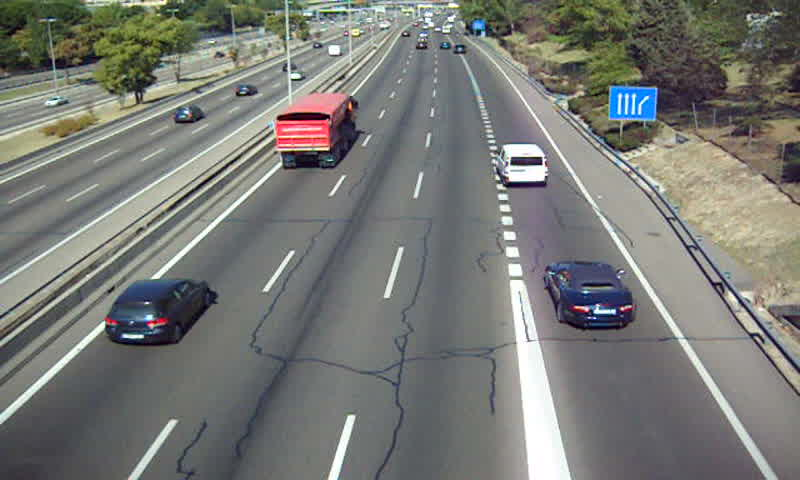car: (106, 279, 212, 345), (543, 262, 634, 328)
truck: (275, 95, 355, 168)
van: (498, 143, 547, 185)
